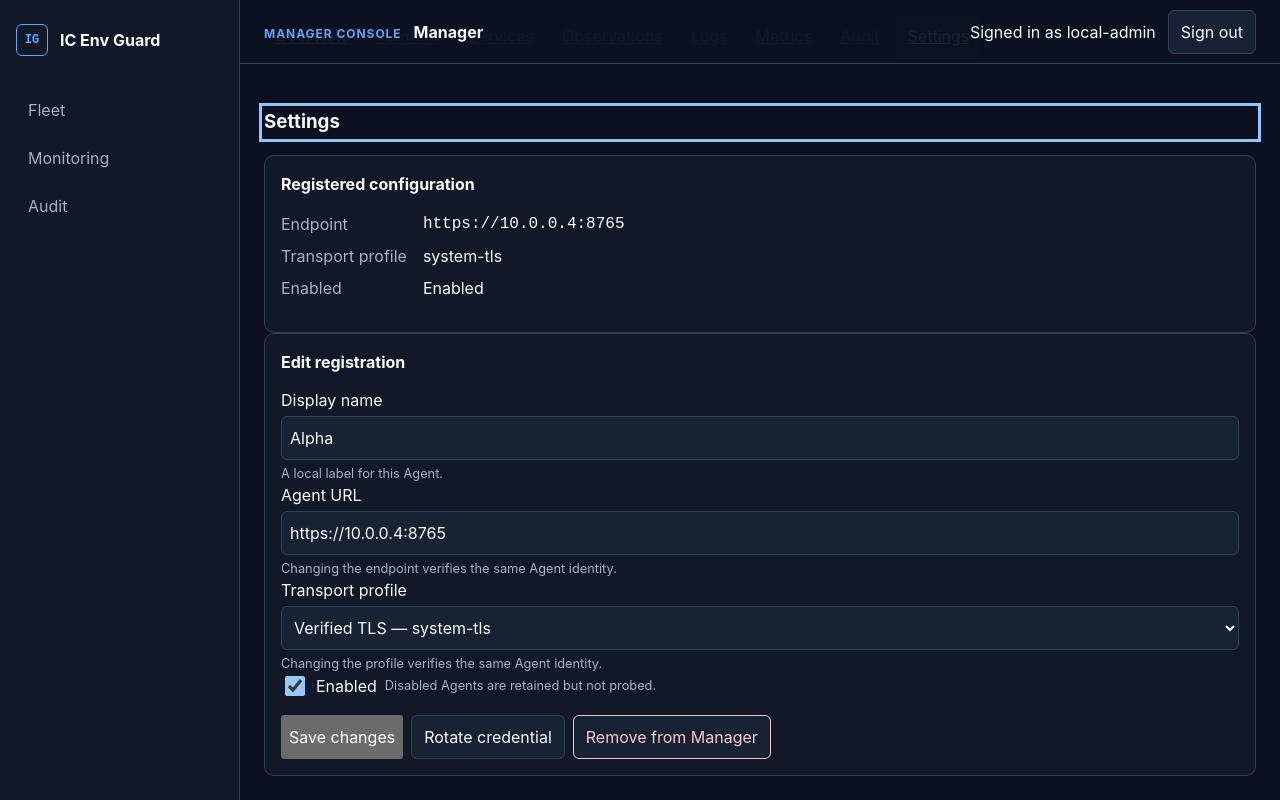
Test: Agent Settings mutations › starts and consumes credential rotation with entered SSH details and shows residual cleanup
(page scrolled)
Step 1. Click the button "Rotate credential" → (488,737), box [411, 715, 565, 759]
(page scrolled)
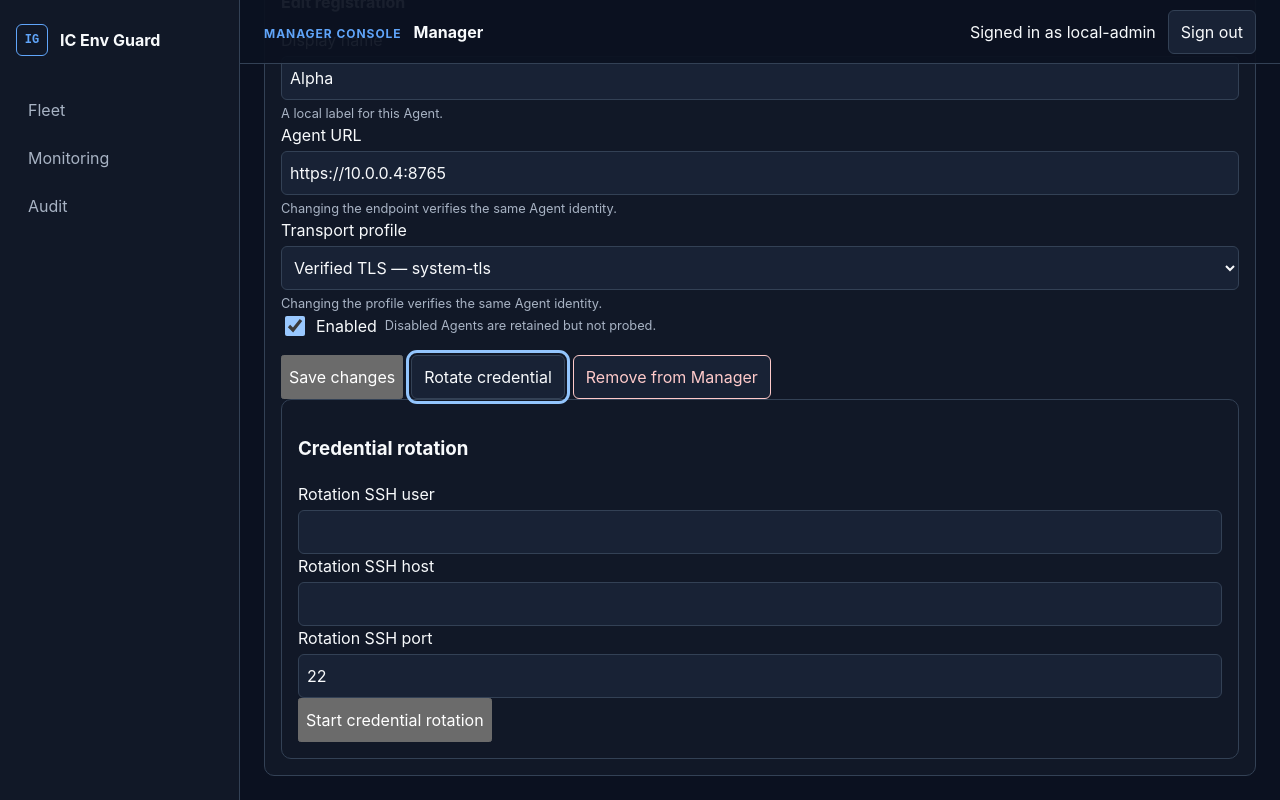
Step 2. Type "edaops" into the field labelled "Rotation SSH user" → (760,532), box [298, 510, 1222, 554]
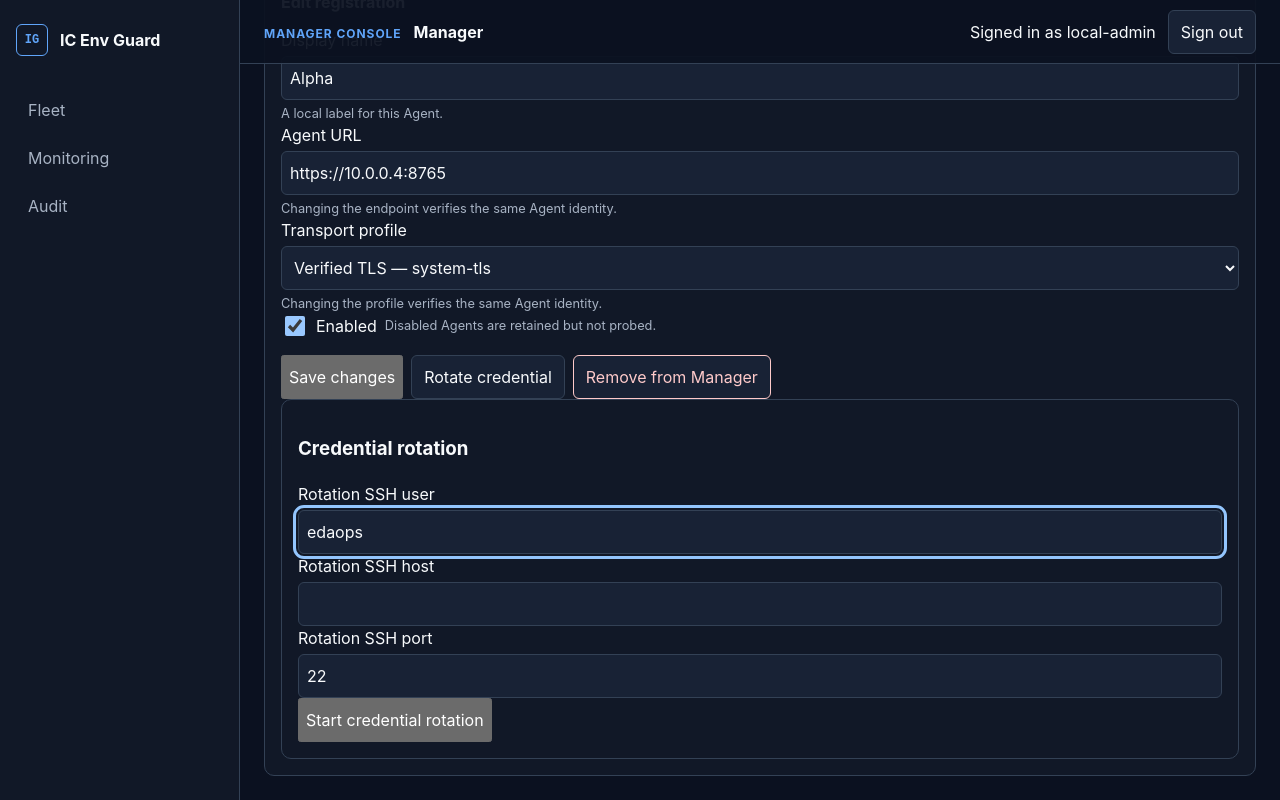
Step 3. Type "10.0.0.4" into the field labelled "Rotation SSH host" → (760,604), box [298, 582, 1222, 626]
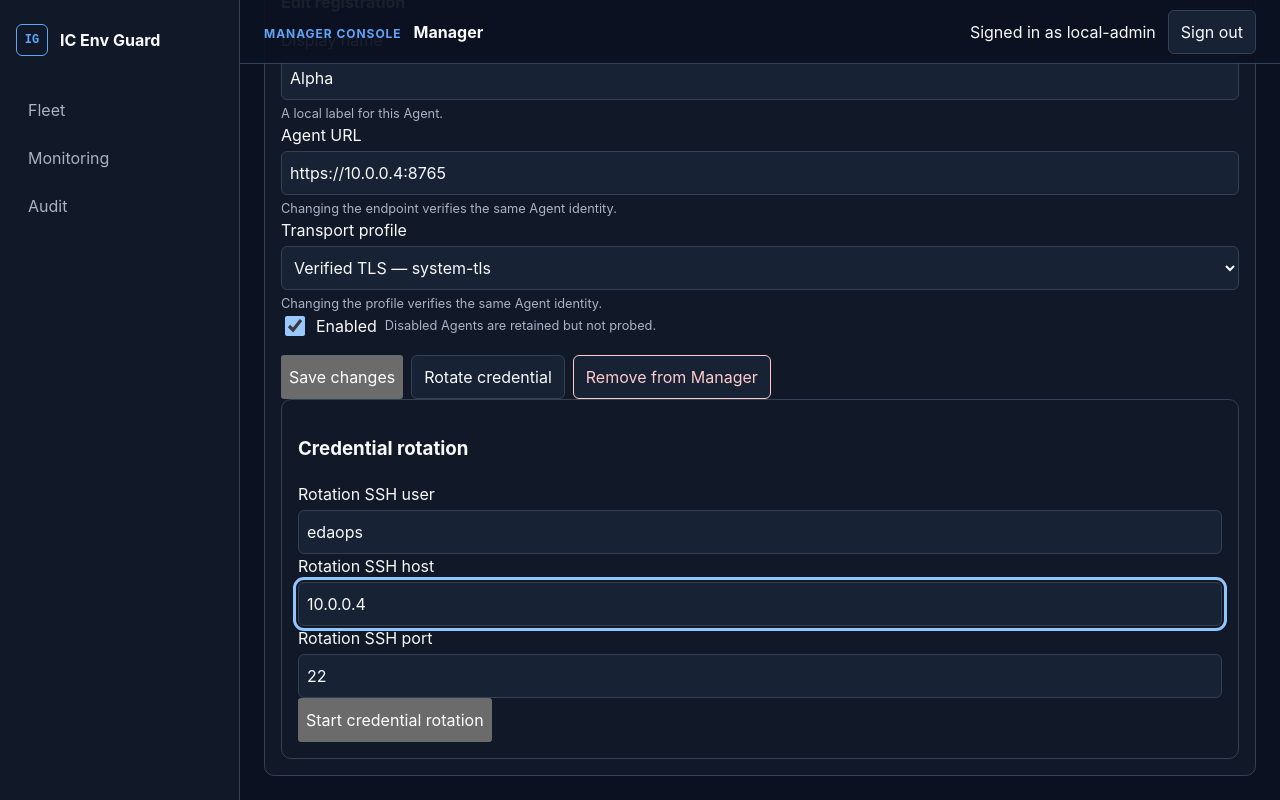
Step 4. Click the button "Start credential rotation" → (395,720), box [298, 698, 492, 742]
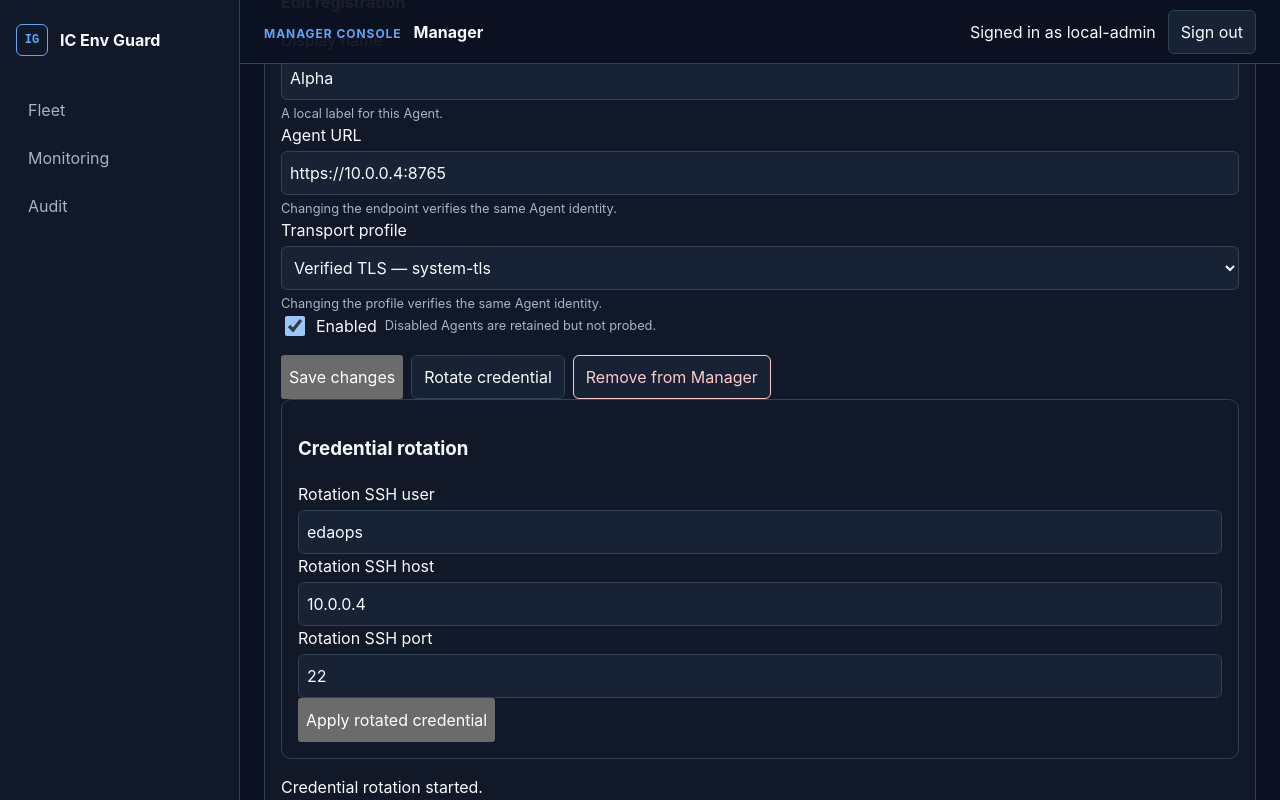
Step 5. Click the button "Apply rotated credential" → (397,720), box [298, 698, 495, 742]
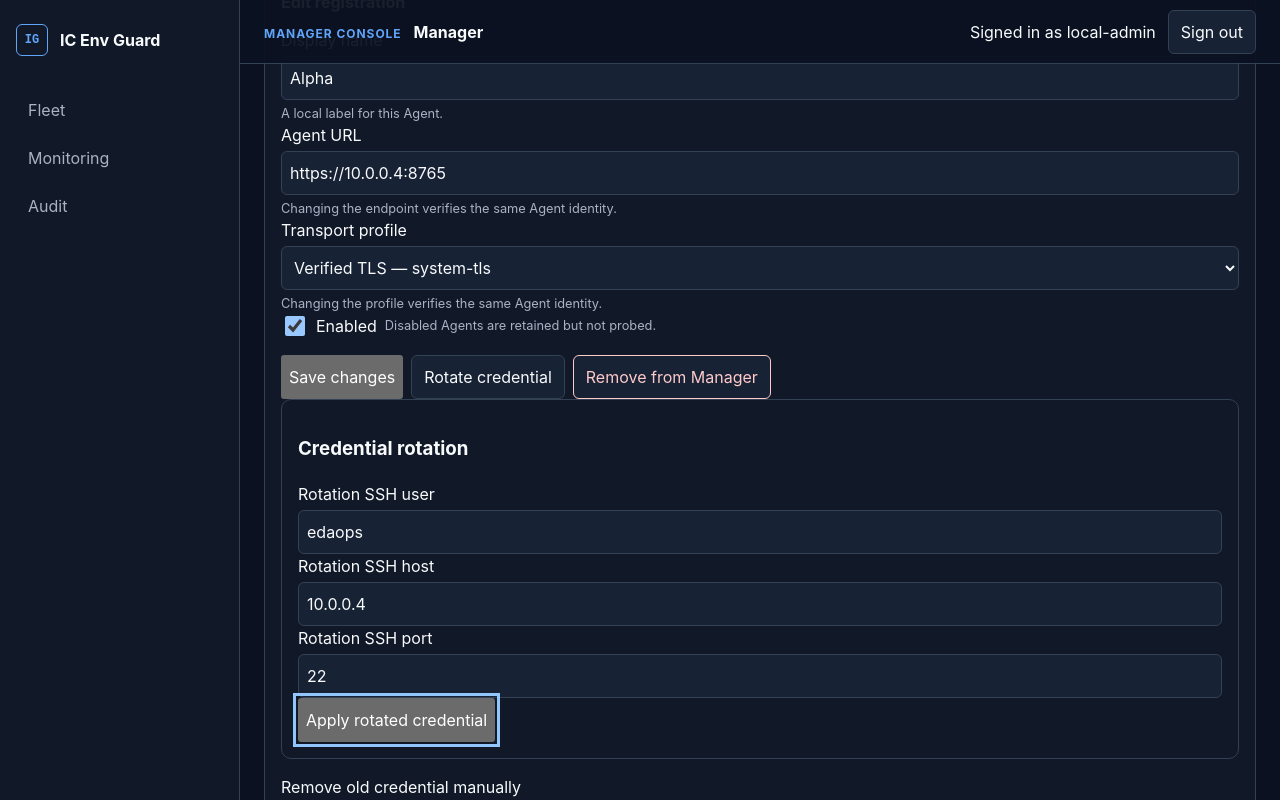
expect the text "Remove old credential manually" is shown: met, box [281, 777, 521, 797]
